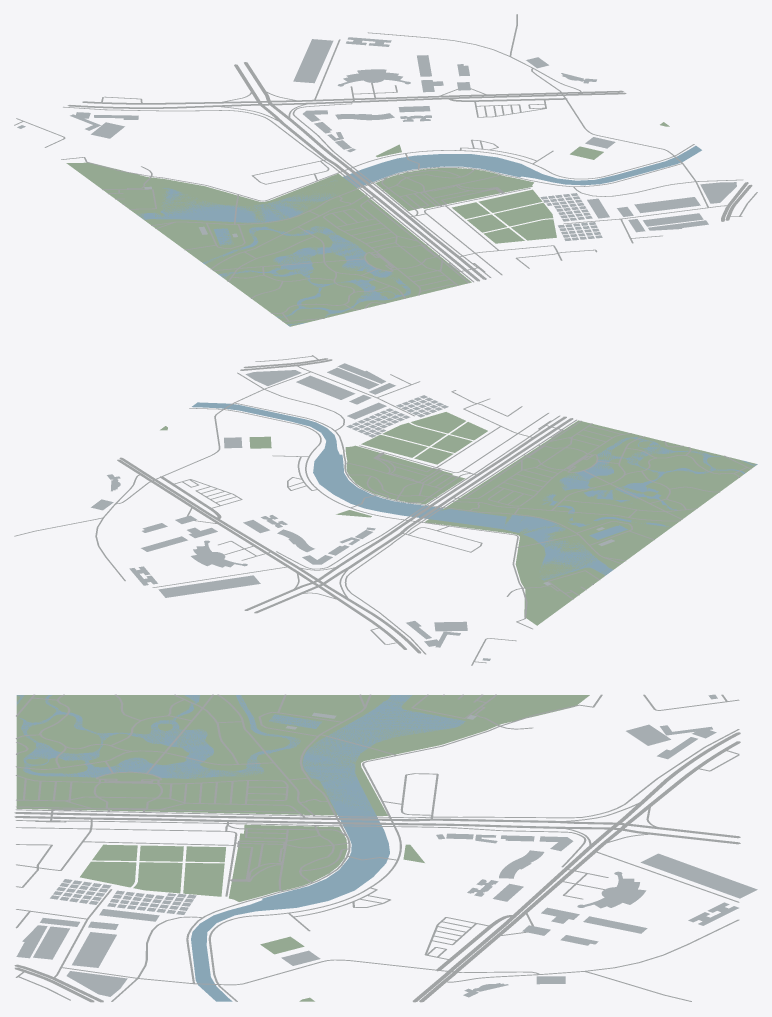
Rendered from -11_16-known-coarse.glb.
3 views of the same model, one above another, from view 1: azimuth 30°, elevation 25°; view 2: azimuth 150°, elevation 25°; view 3: azimuth 270°, elevation 25° (orthographic). The views are drawn at different scales.
Size of the model in its own units: 1004 by 0.15 by 1025.
